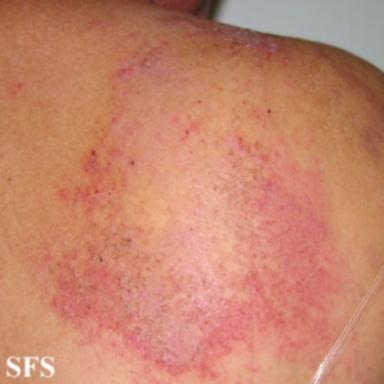Darier_s-Disease: (31, 17, 351, 384)
